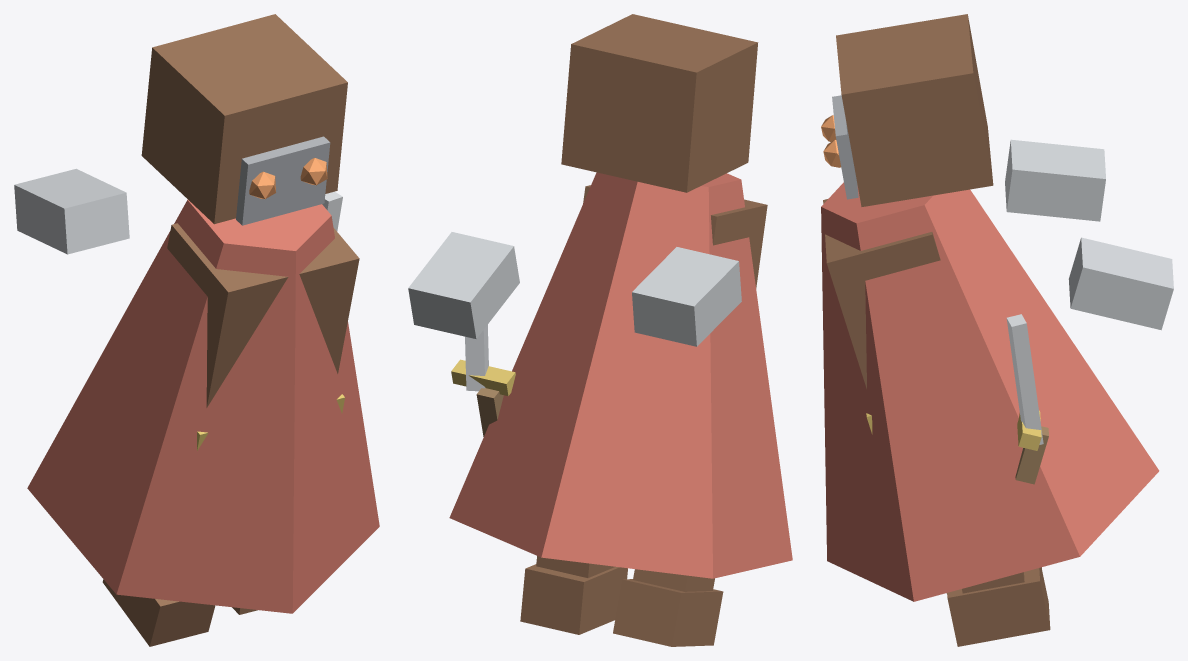
File: npcpose_raider_idle_07.glb
3 views of the same model, side by side, from view 1: azimuth 30°, elevation 25°; view 2: azimuth 150°, elevation 25°; view 3: azimuth 270°, elevation 25° (orthographic). The views are drawn at different scales.
Visible parts, largest first — view 1: npcpose; view 2: npcpose; view 3: npcpose.
Part boxes in pixels (x1,y1,x2,y2): npcpose: (14, 14, 379, 646); npcpose: (408, 14, 792, 646); npcpose: (821, 14, 1173, 646).
Bounding box in the file's own units: 0.8147 × 1.61 × 0.8975.
